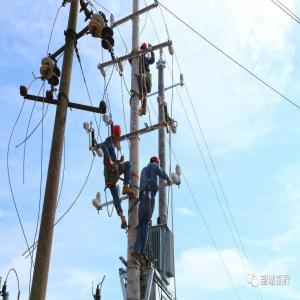red: (112, 126, 123, 144), (150, 154, 162, 169), (140, 42, 148, 56)
